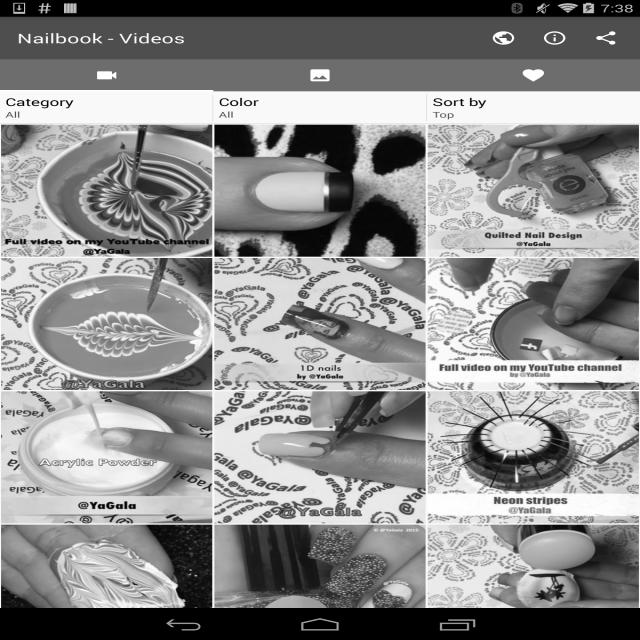ImageView: (426, 123, 640, 257), (213, 257, 427, 391), (426, 390, 640, 524), (0, 123, 213, 257), (0, 390, 213, 524), (213, 124, 427, 257), (426, 257, 640, 390), (213, 391, 427, 524), (0, 257, 213, 390), (213, 524, 427, 640), (426, 524, 640, 640), (0, 524, 213, 640), (307, 68, 333, 84), (94, 68, 119, 84), (521, 68, 546, 84)
TextView: (17, 29, 185, 47), (580, 22, 632, 54), (478, 22, 529, 54), (529, 22, 580, 54), (5, 95, 74, 109), (432, 95, 487, 109), (218, 95, 258, 109), (432, 109, 454, 120), (218, 109, 234, 120), (6, 109, 20, 120)
